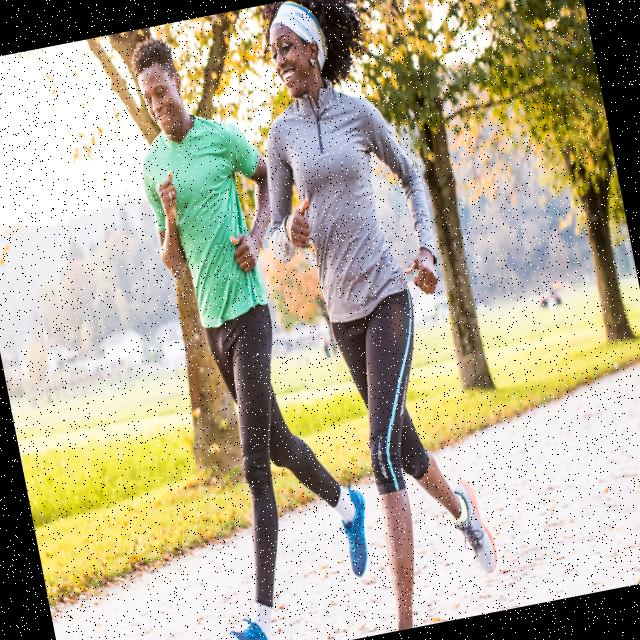Person: (228, 0, 508, 640), (113, 10, 390, 640)
